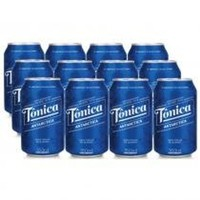tonica: (154, 76, 197, 158), (65, 80, 107, 155), (97, 58, 136, 78)
